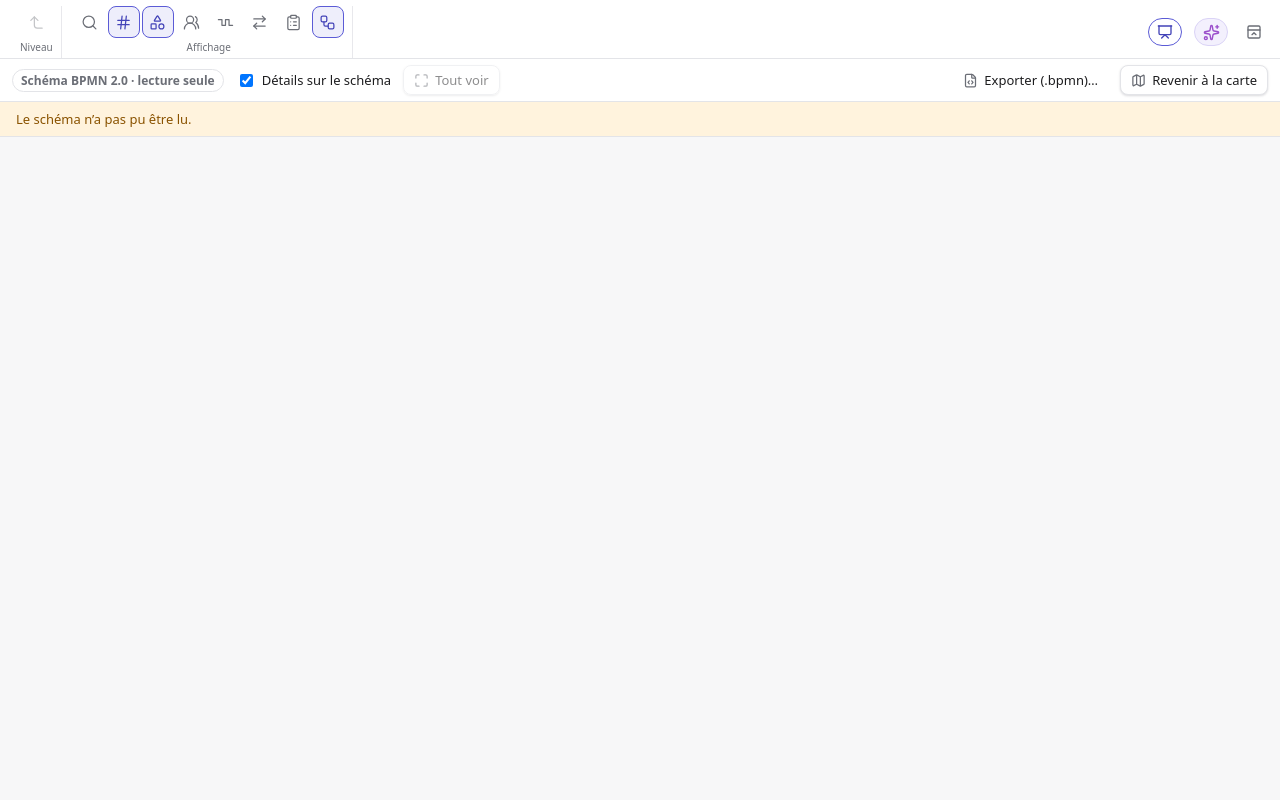
it: the status button on a line of the plan (ADR 116) › in the BPMN view the status is read only
The image size is (1280, 800).
Check: the element with test id "bpmn-view" is shown, box [0, 59, 1279, 137]
Click the button with test id "ribbon-plan": [294, 22] box [278, 6, 310, 38]
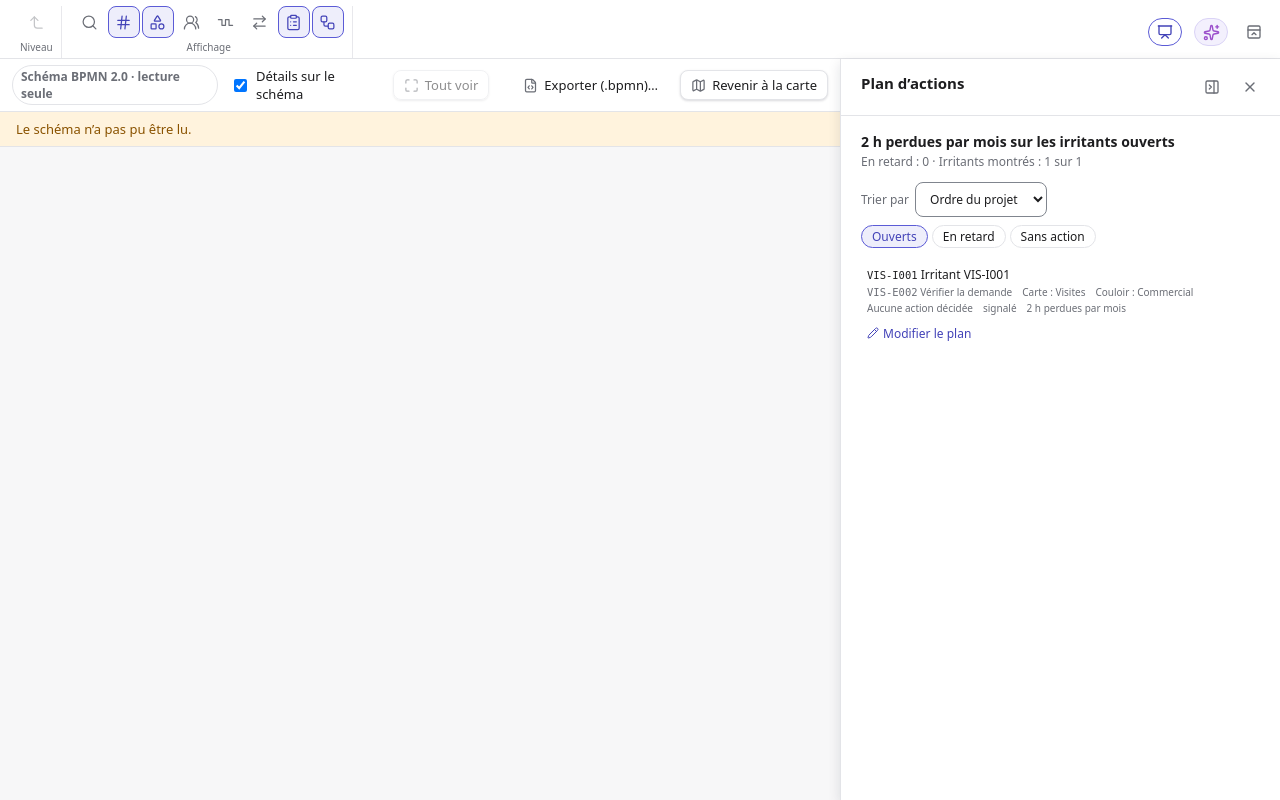
Check: the list item with test id "^plan-line-" shows "signalé", box [861, 260, 1260, 321]
